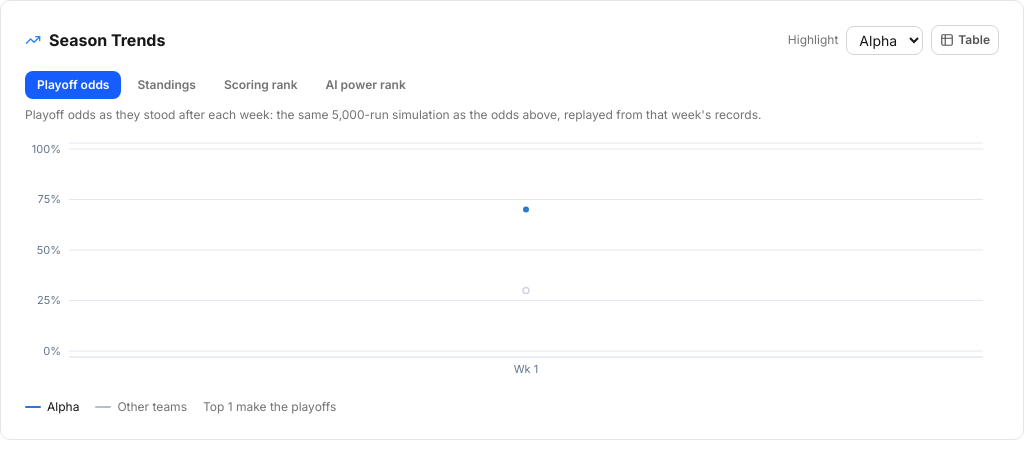
Test case: LeagueTrends › offers the AI power rank tab when rankings exist
Click the tab "AI power rank": click(366, 85) [314,71,418,99]
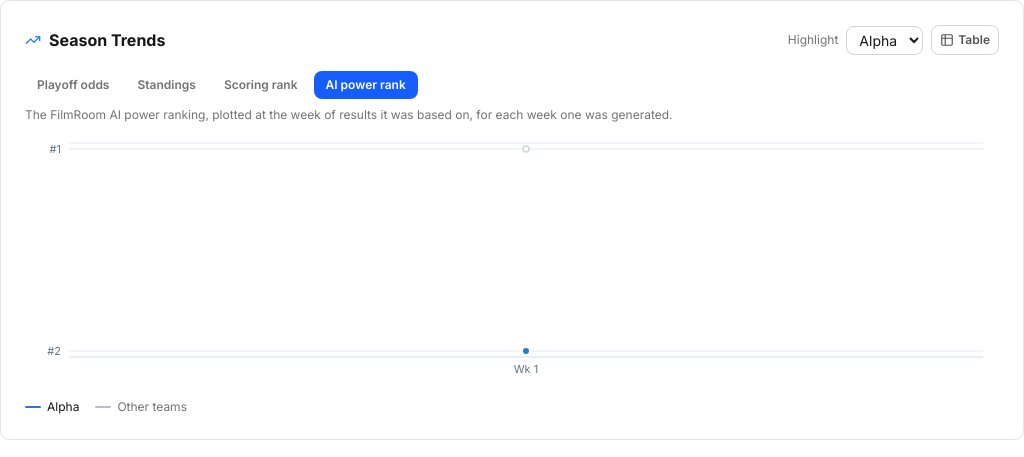
Click the button "Table": click(965, 40) [931,25,999,55]
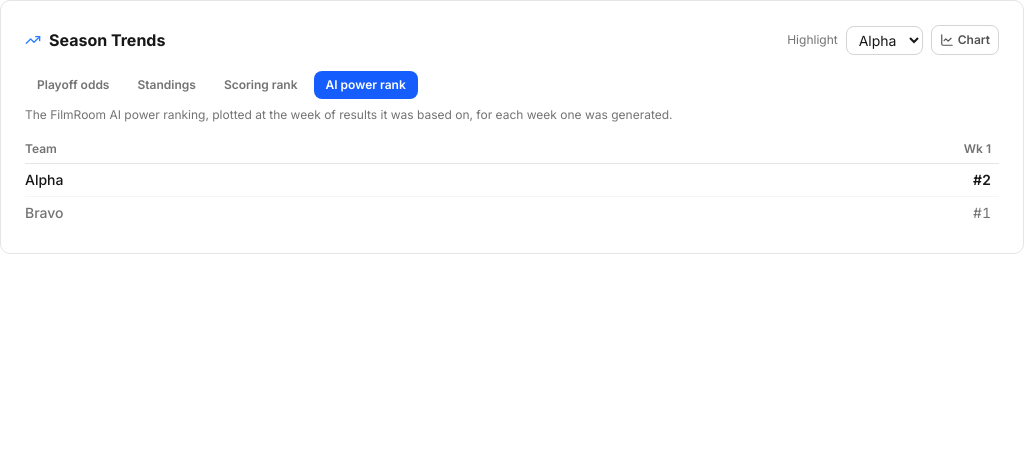
Result: the row "Bravo #1" is shown at [25,196,999,229]
